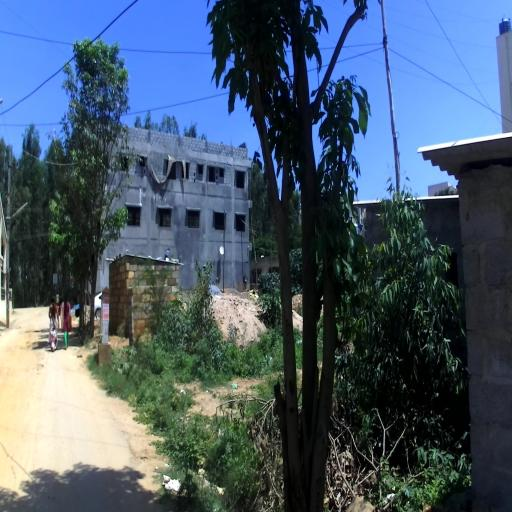street_light_0: (6, 202, 28, 230)
